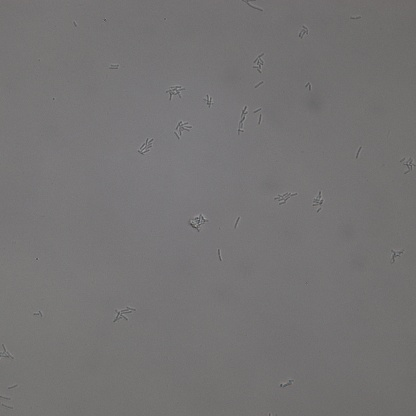R(colony): (112, 306, 137, 323), (175, 120, 193, 140), (189, 214, 208, 231), (274, 192, 297, 206), (236, 106, 247, 135), (400, 156, 416, 175), (312, 192, 325, 213), (137, 138, 153, 155), (166, 85, 185, 99), (252, 53, 265, 73), (390, 247, 404, 263), (298, 25, 308, 38), (203, 95, 212, 106), (280, 380, 294, 387), (304, 83, 313, 92), (108, 63, 118, 70)
